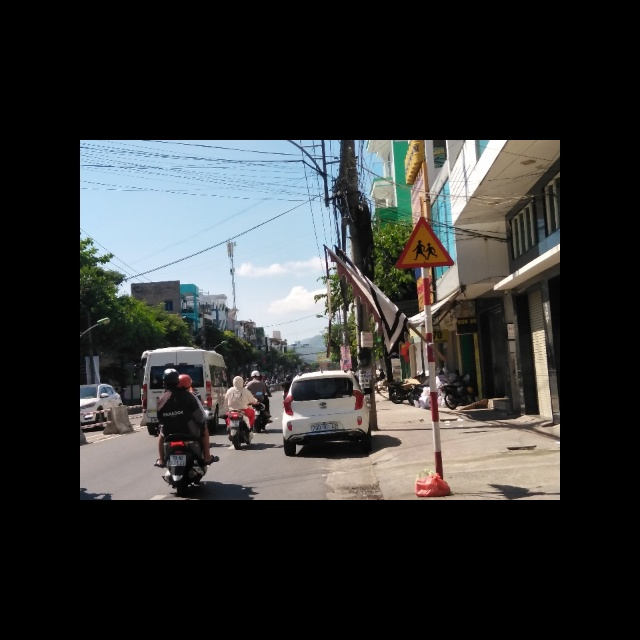Trẻ em ngang qua: (392, 215, 455, 269)
